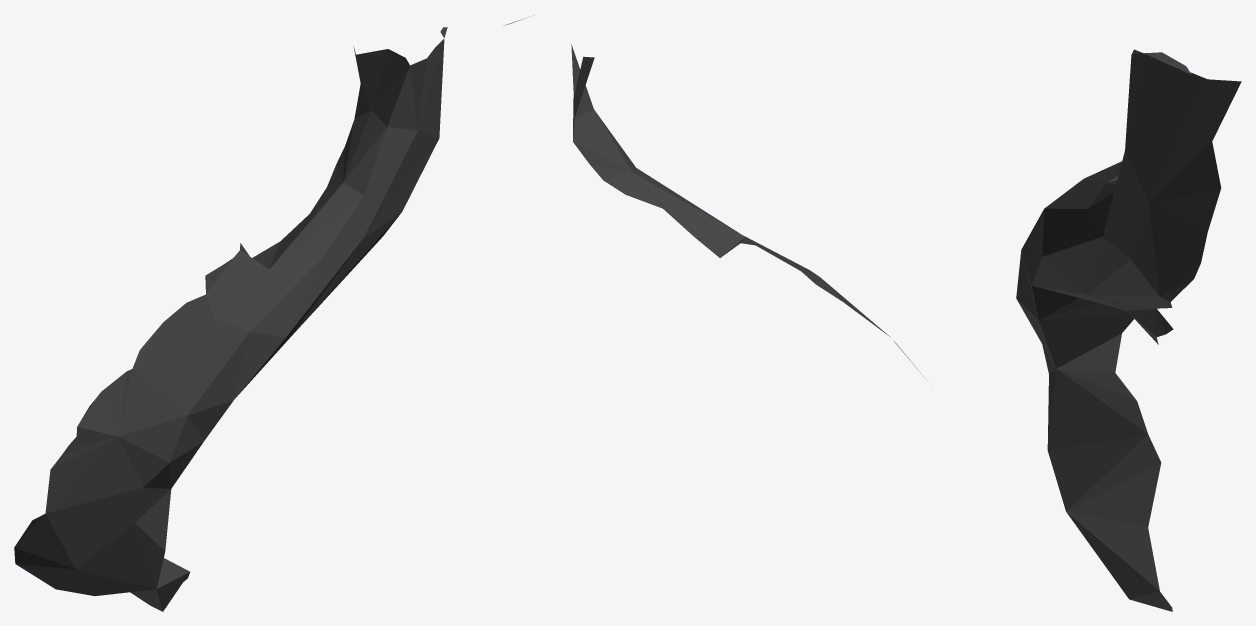
File: A_renal_R_A_renal_R.glb
The picture shows the model from 3 angles, left to right: view 1: azimuth 30°, elevation 25°; view 2: azimuth 150°, elevation 25°; view 3: azimuth 270°, elevation 25°; orthographic projection. The views are drawn at different scales.
Visible parts, largest first — view 1: A_renal_R_A_renal_R; view 2: A_renal_R_A_renal_R; view 3: A_renal_R_A_renal_R.
Boxes of the visible parts, <box> form: A_renal_R_A_renal_R: <box>14,27,447,611</box>; A_renal_R_A_renal_R: <box>504,16,925,378</box>; A_renal_R_A_renal_R: <box>1016,49,1241,611</box>.
Bounding box in the file's own units: 0.0142 × 0.0149 × 0.00401.
Materials: 1 (1 with a texture image).
